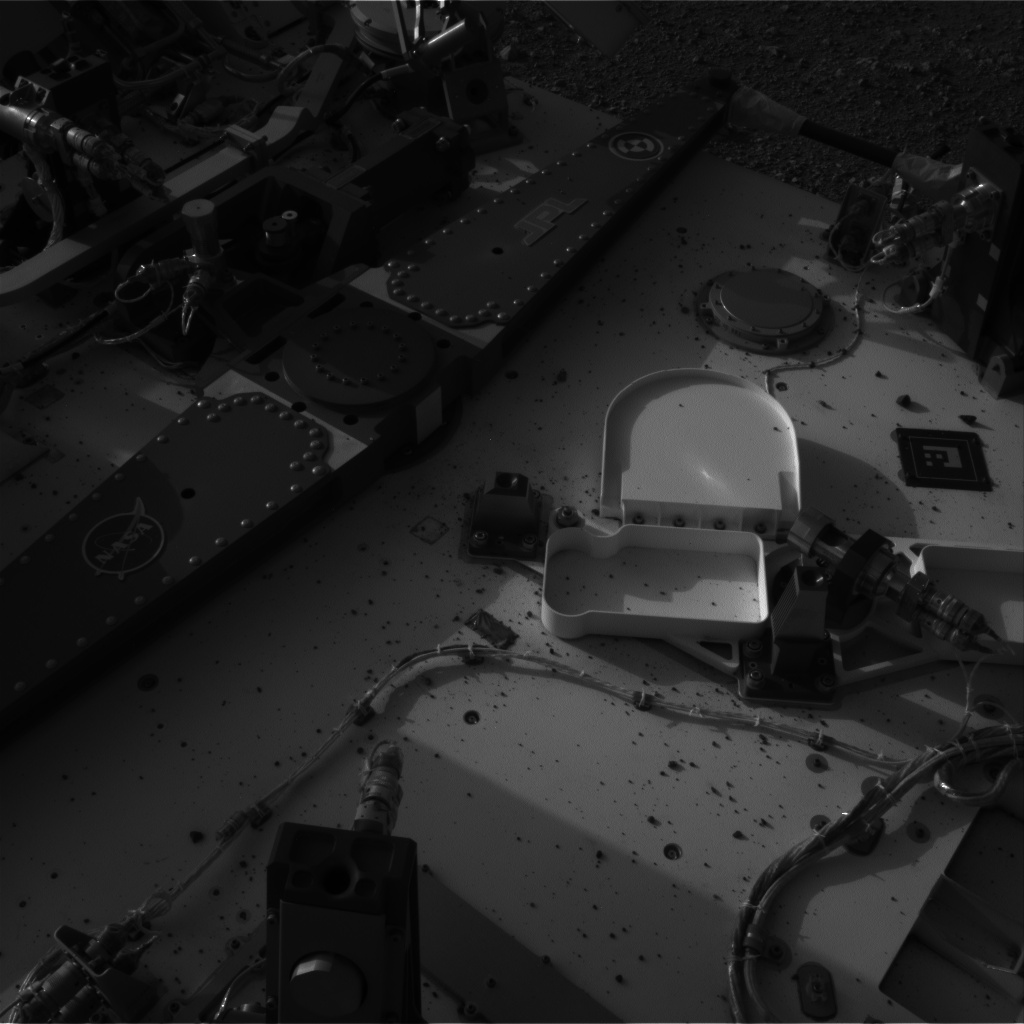soil: (772, 11, 1011, 93)
